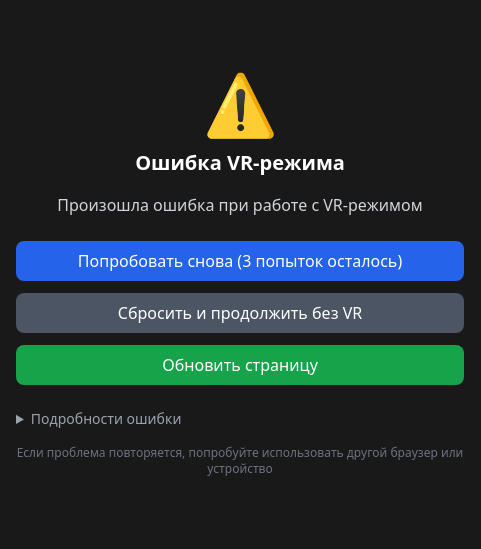
Scenario: VRErrorBoundary › Error Details › should show error details when showErrorDetails is true
This screenshot has width=481, height=549.
Click the heading "Подробности ошибки".
click(106, 418)  # box [31,409,181,428]
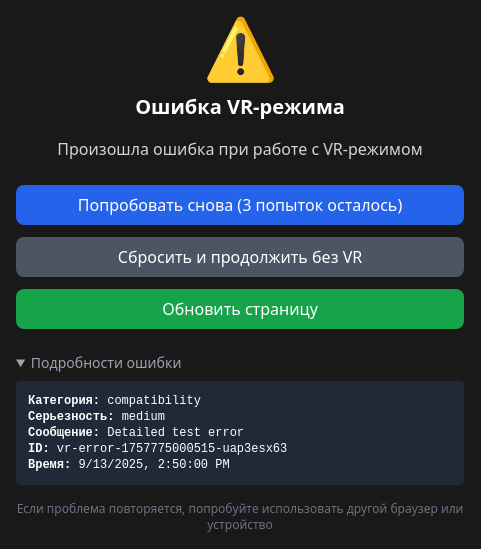
Expected: the text "Detailed test error" is shown, [107,426,244,440]
Expected: the text "Категория:" is shown, [28,394,100,408]
Expected: the text "Серьезность:" is shown, [28,410,114,424]
